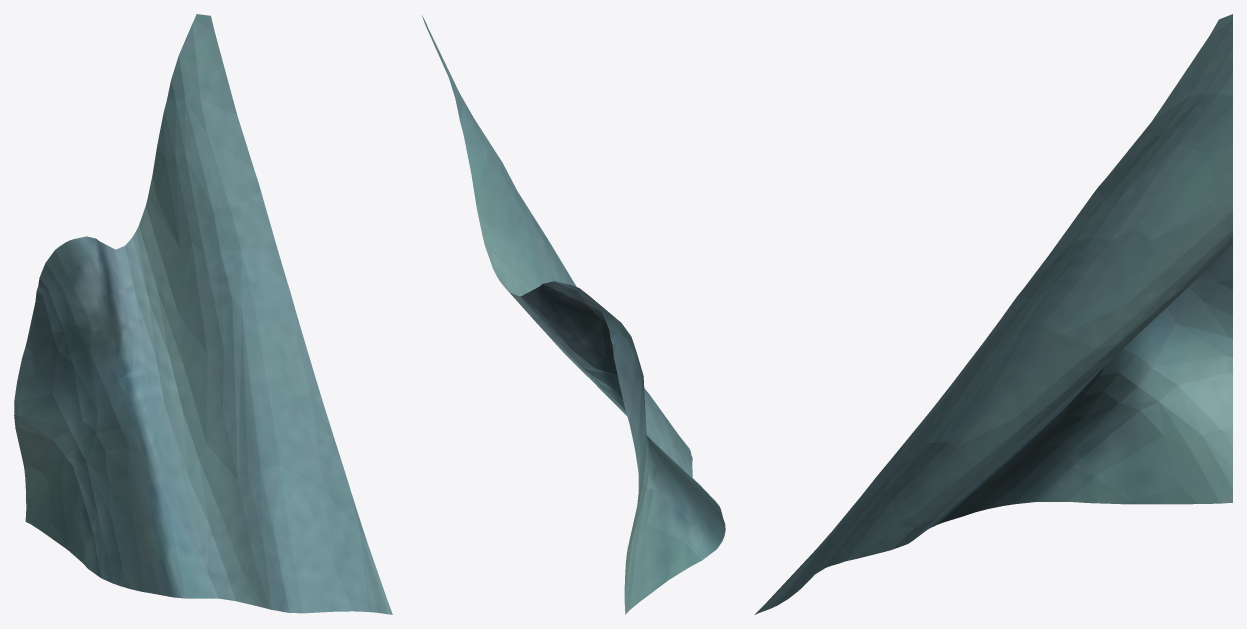
The picture shows the model from 3 angles, left to right: view 1: azimuth 30°, elevation 25°; view 2: azimuth 150°, elevation 25°; view 3: azimuth 270°, elevation 25°; orthographic projection. The views are drawn at different scales.
Size of the model in its own units: 36.85 by 85.74 by 62.47.
1 material, 1 textured.
